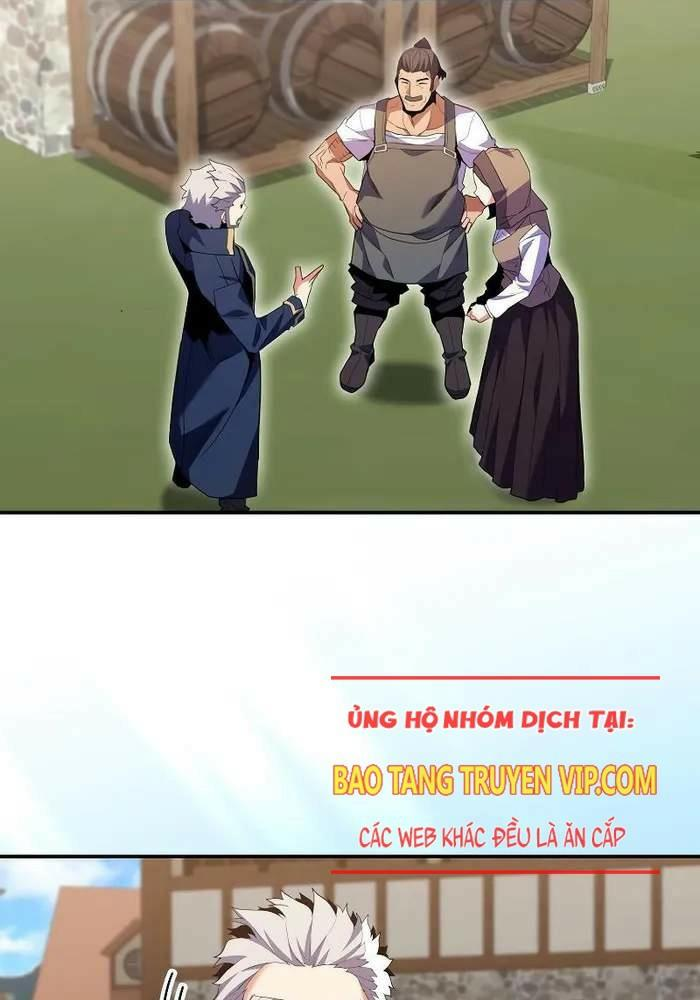quangcao: (331, 676, 663, 879)
